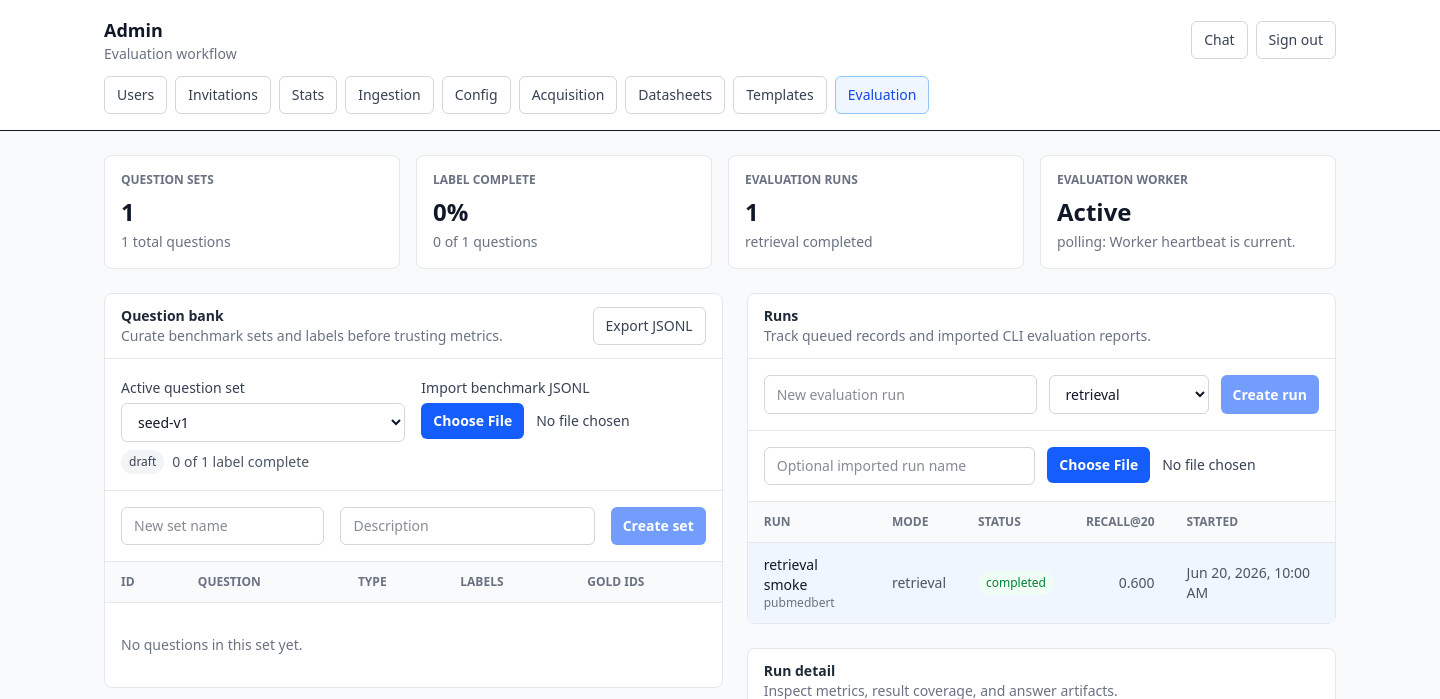
Scenario: AdminEvaluationClient › creates a question set
The image size is (1440, 699).
Type "beta-v1" into the field named "Question set name" at (223, 526), box [121,507,324,545]
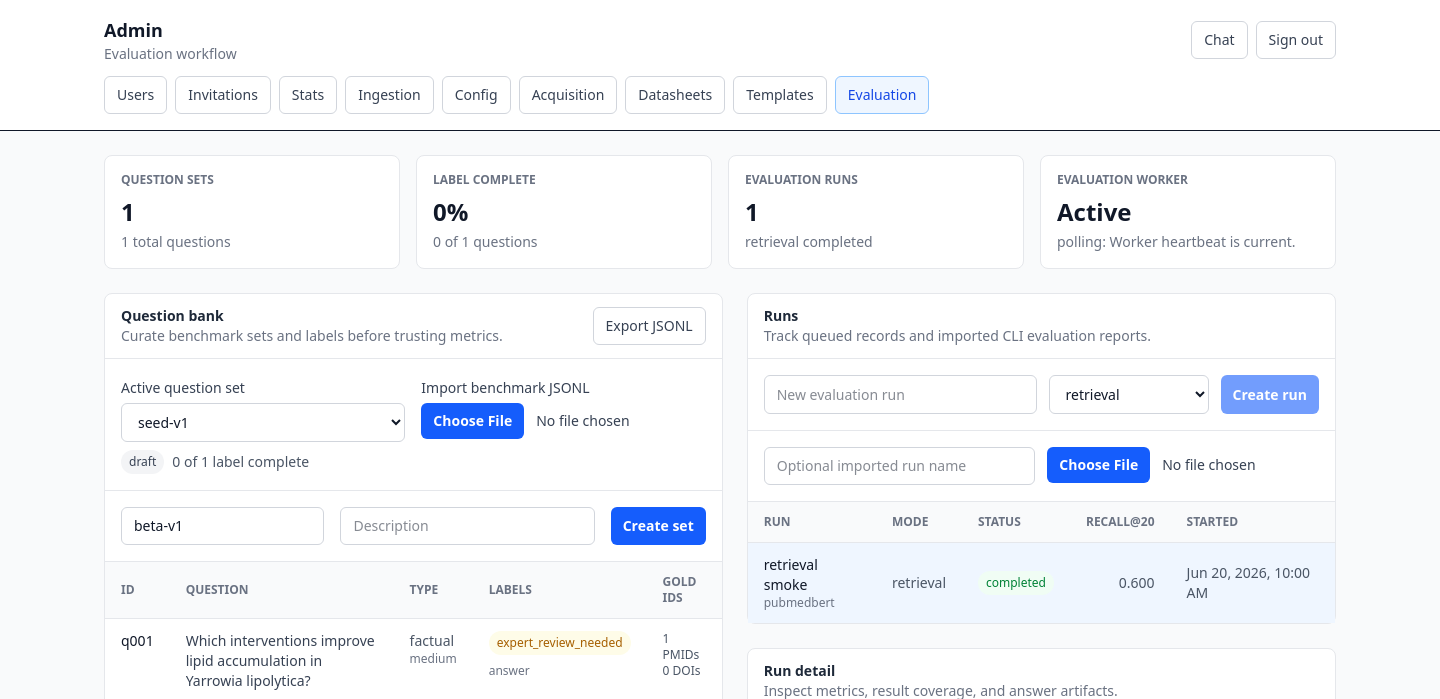
Click the button "Create set" at (658, 526), box [611,507,706,545]
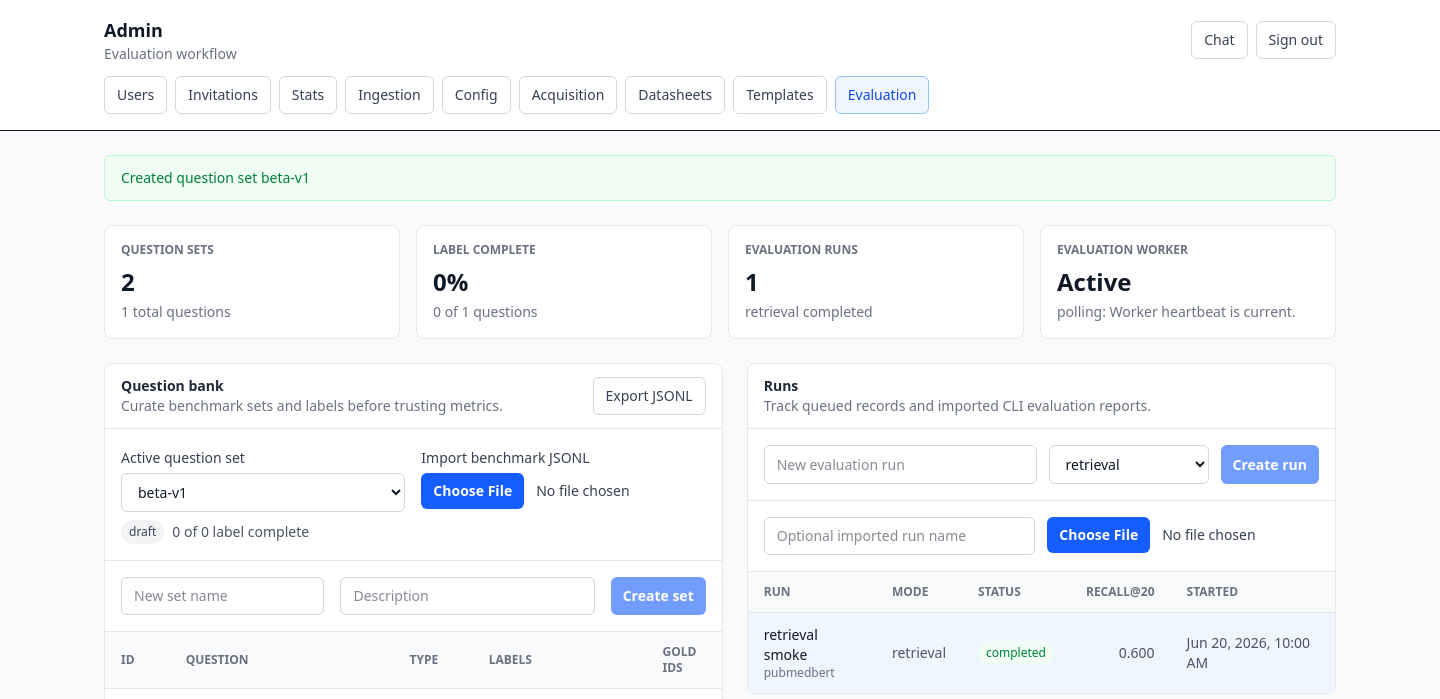
Result: the text "Created question set beta-v1" is shown at [104,155,1336,201]
